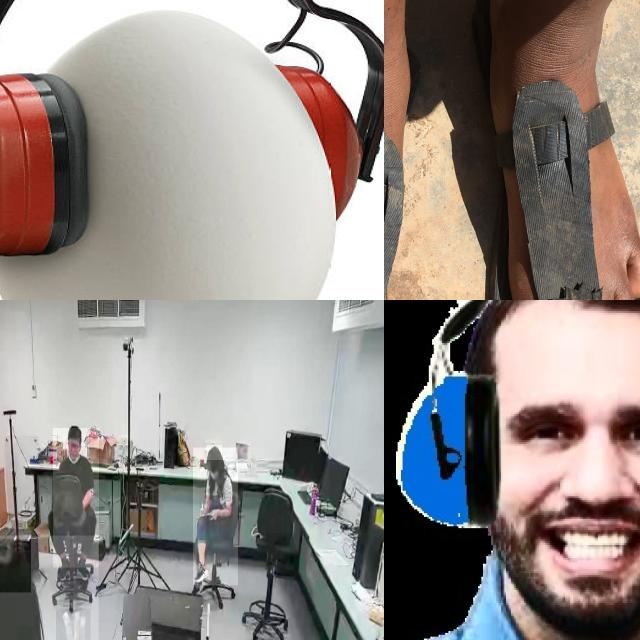Ear-protection: (0, 0, 384, 259), (392, 329, 640, 537)
Sandals: (487, 0, 640, 300)
face_nomask: (68, 437, 80, 459)
hand_glove: (55, 608, 90, 640)
hand_noglove: (198, 502, 208, 517), (209, 507, 219, 519)
head_nohelmet: (0, 539, 31, 593), (206, 445, 222, 461), (67, 424, 81, 438)
person: (53, 428, 99, 568), (193, 448, 239, 586)
shoes: (56, 550, 71, 584), (192, 555, 209, 585), (76, 552, 90, 581)
